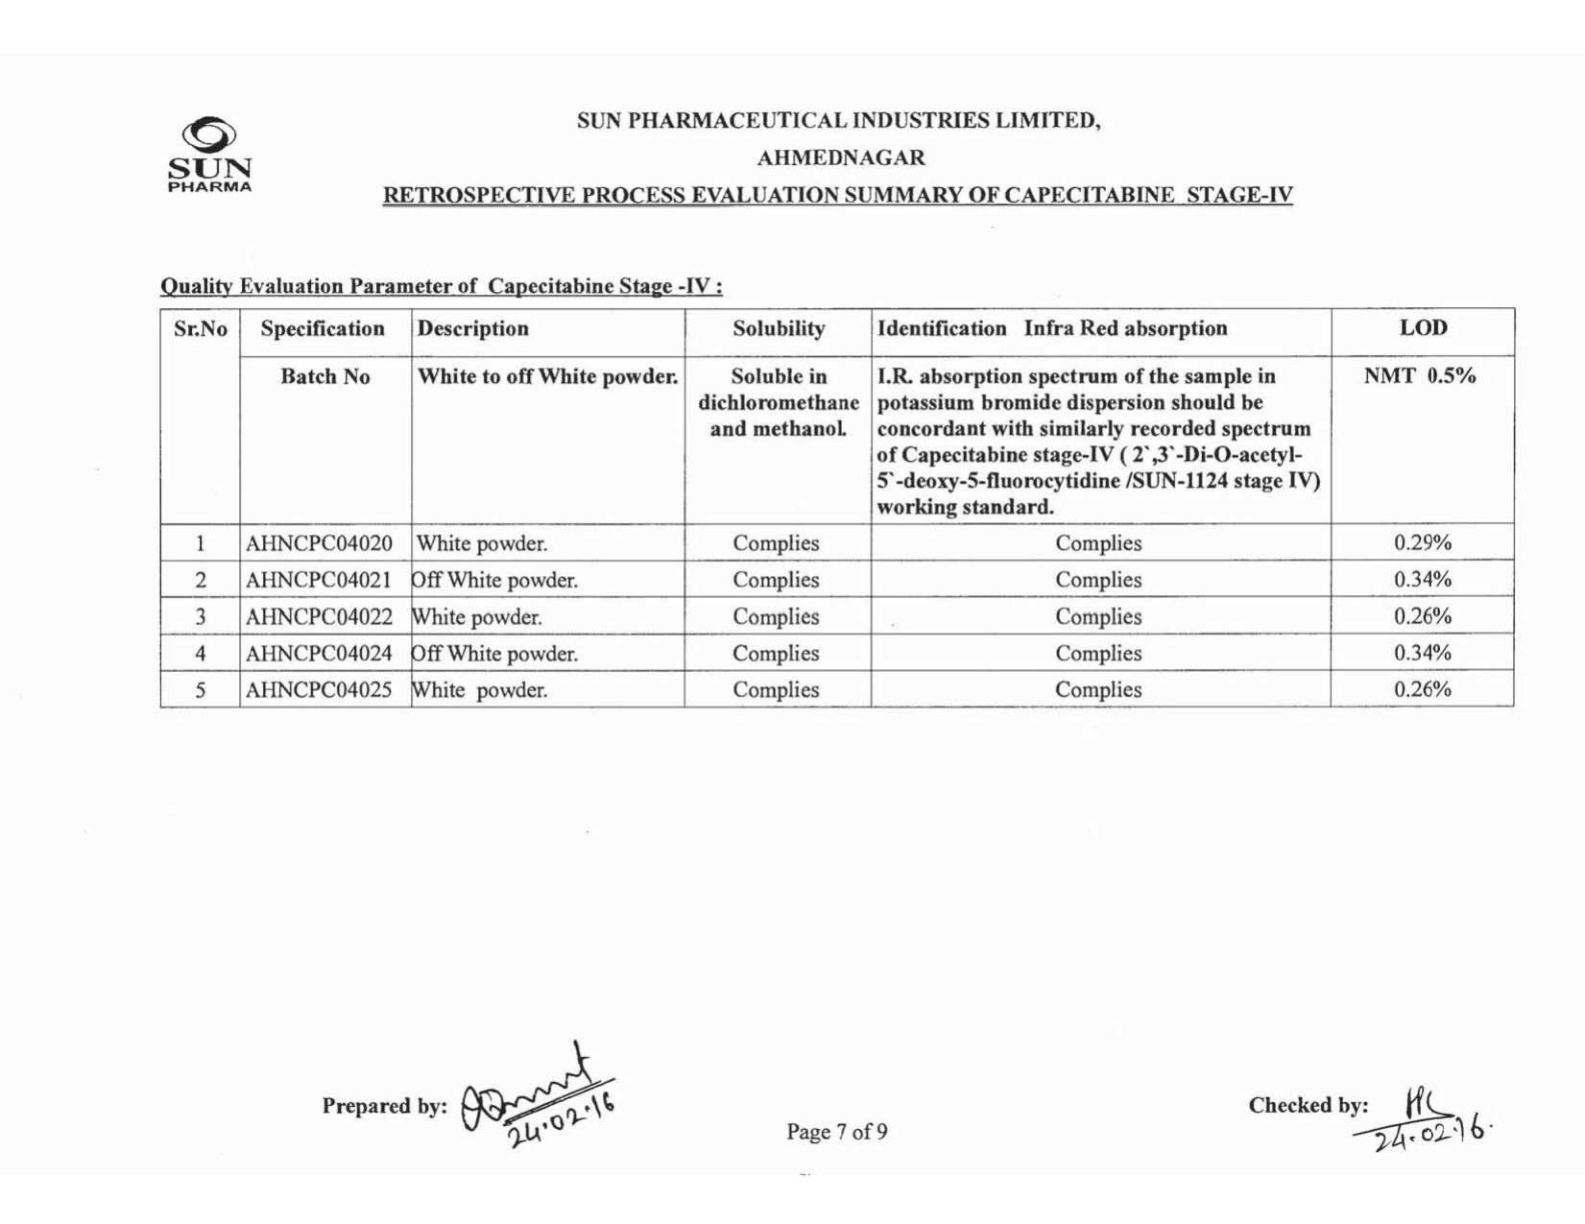full_lined: (158, 306, 1517, 708)
